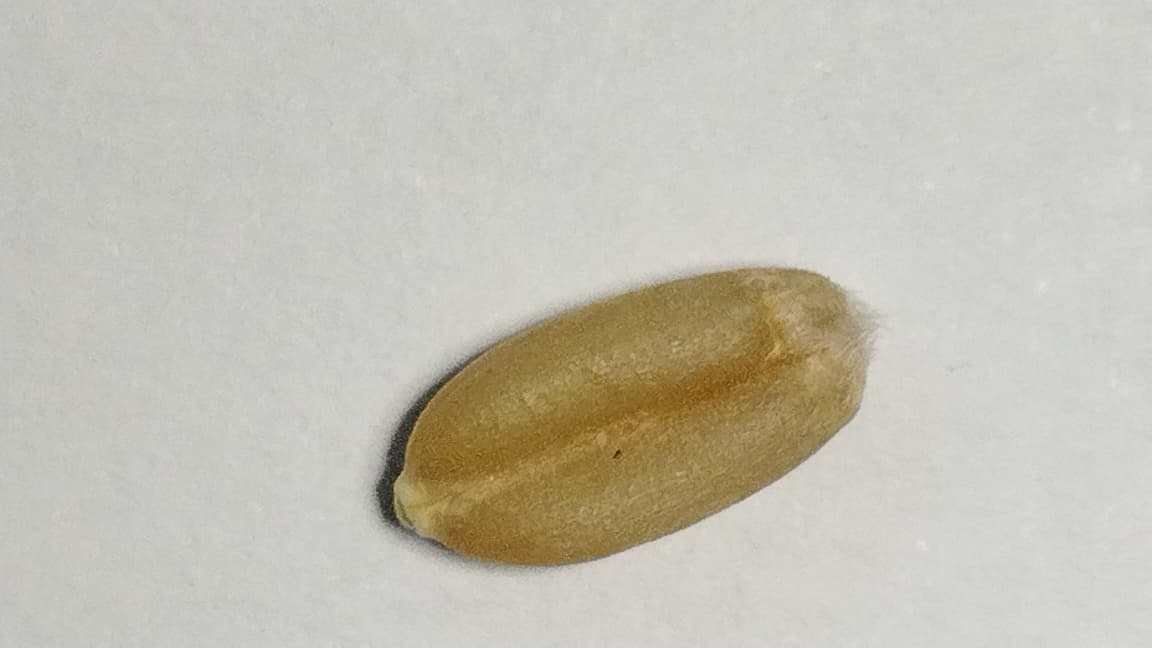healthy: (378, 268, 869, 564)
